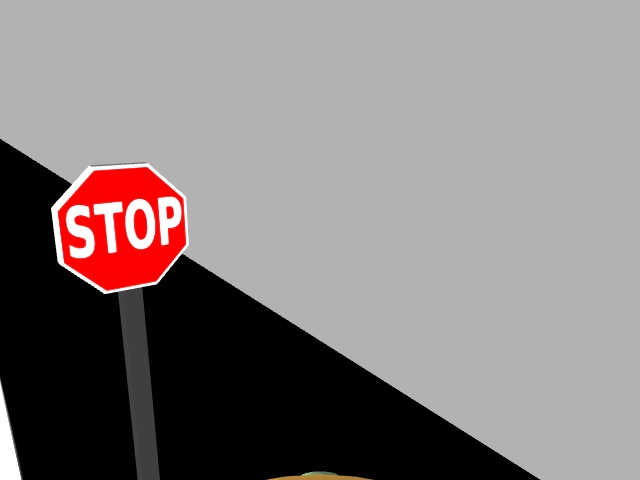Stop: (39, 155, 193, 296)
